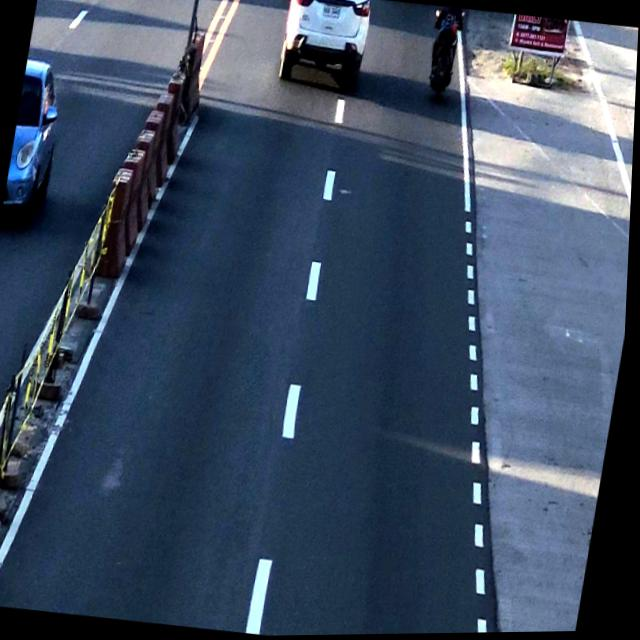Car: (276, 0, 374, 93)
License-Plate: (321, 2, 343, 23)
Motorcycle: (414, 6, 469, 107)
